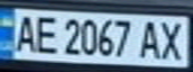0: (78, 16, 100, 56)
2: (60, 15, 81, 56)
6: (97, 16, 118, 57)
7: (112, 17, 136, 59)
A: (9, 11, 39, 53), (136, 17, 163, 60)
E: (33, 12, 60, 55)
X: (157, 18, 190, 61)
